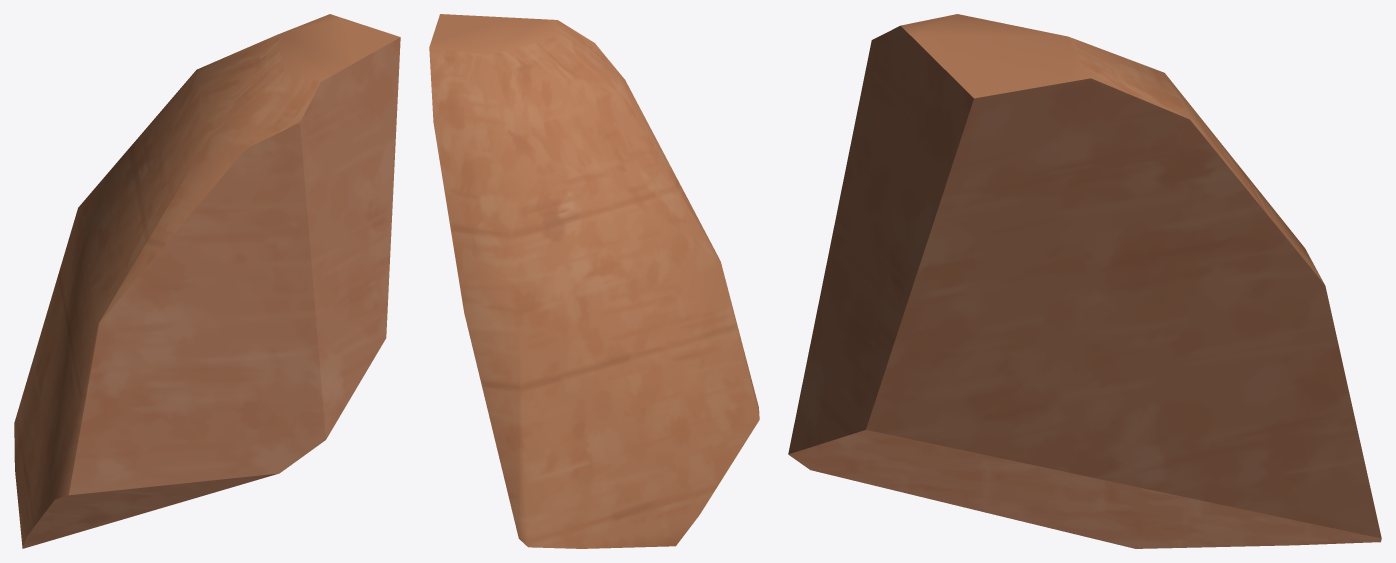
Rendered from kiln_s08.fbx.
3 views of the same model, side by side, from view 1: azimuth 30°, elevation 25°; view 2: azimuth 150°, elevation 25°; view 3: azimuth 270°, elevation 25° (orthographic). The views are drawn at different scales.
Visible parts, largest first — view 1: kiln_s08; view 2: kiln_s08; view 3: kiln_s08.
Part boxes in pixels (left/top/right/bottom): kiln_s08: left=14, top=14, right=400, bottom=548; kiln_s08: left=429, top=14, right=759, bottom=548; kiln_s08: left=788, top=14, right=1381, bottom=548.
Bounding box in the file's own units: 3.03 × 3.92 × 3.14.
